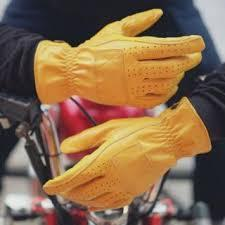gloves: (43, 95, 212, 213), (34, 8, 205, 110)
